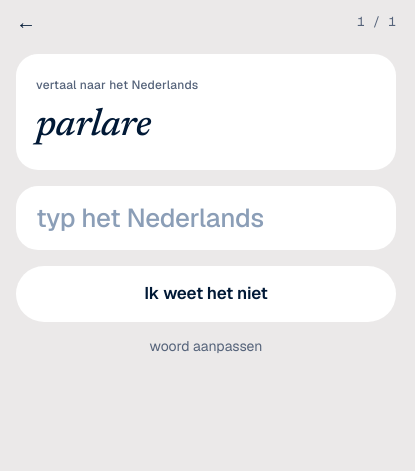
Test: Study – foute antwoorden worden niet overgeslagen › bij IT→NL voegt "mijn antwoord toevoegen als betekenis" een vertaling toe en rekent goed
In the field with placeholder "typ het Nederlands": (206, 218) left=16, top=186, right=396, bottom=250, type "kletsen"
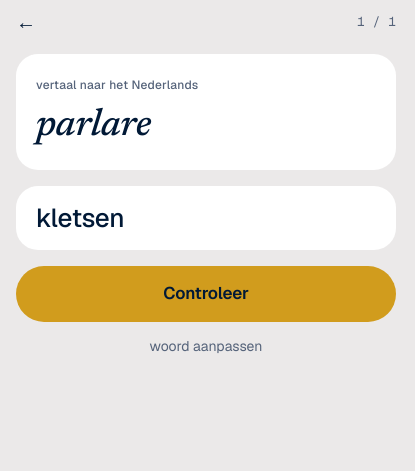
Click the button "Controleer": (206, 294) left=16, top=266, right=396, bottom=322
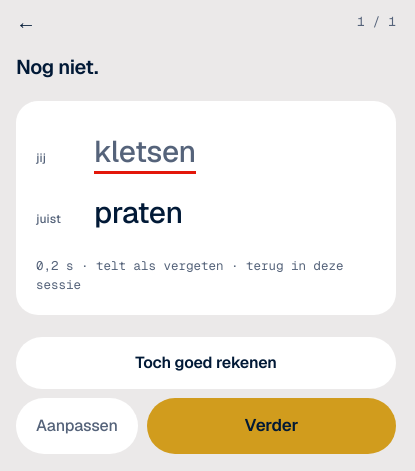
Check: the heading "Nog niet." is shown, box left=16, top=54, right=98, bottom=80
Click the button "Aanpassen": (77, 426) left=16, top=398, right=138, bottom=454
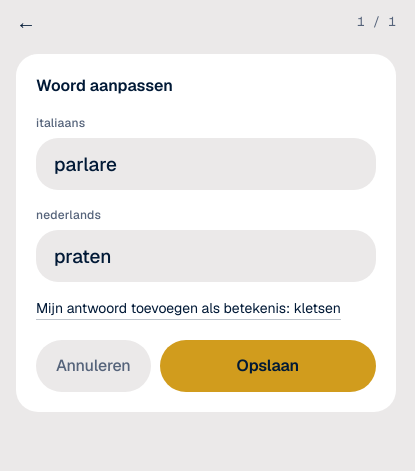
Click the button "Mijn antwoord toevoegen als betekenis: kletsen": (188, 309) left=36, top=298, right=341, bottom=320
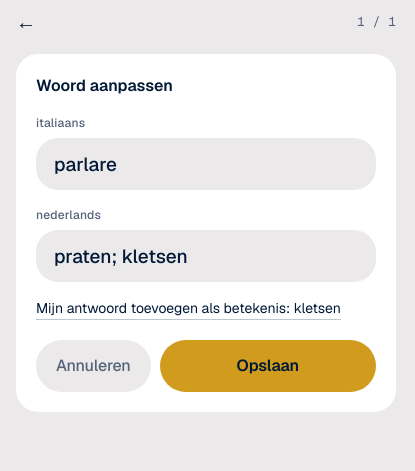
Click the button "Opslaan": (268, 366) left=160, top=340, right=376, bottom=392
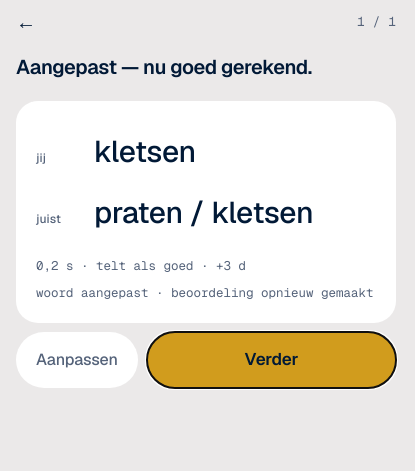
Check: the heading "Aangepast — nu goed gerekend." is shown, box left=16, top=54, right=312, bottom=80
